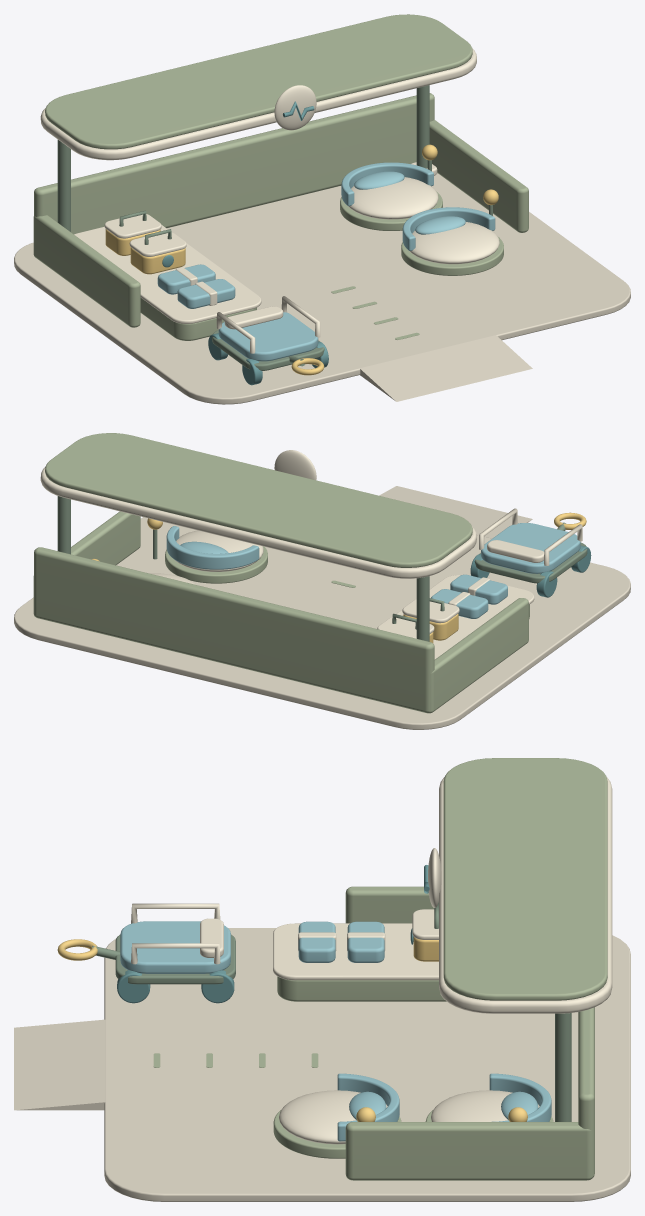
File: medical_station.glb
3 renders of one model, top to bottom at view 1: azimuth 30°, elevation 25°; view 2: azimuth 150°, elevation 25°; view 3: azimuth 270°, elevation 25°, orthographic. The views are drawn at different scales.
Parts seen in each view (by area): view 1: Foundation, Canopy_green_cap, Rear_wall, Broad_entry_ramp, Left_wall, Right_wall, Soft_canopy, Supply_top, Cart_soft_mattress, Bed_1_cushion, Bed_0_cushion, Bed_1_low_base (+16 smaller); view 2: Foundation, Rear_wall, Canopy_green_cap, Soft_canopy, Left_wall, Cart_soft_mattress, Right_wall, Broad_entry_ramp, Bed_1_support, Supply_top, Bed_1_low_base, Bed_1_cushion (+10 smaller); view 3: Foundation, Canopy_green_cap, Right_wall, Broad_entry_ramp, Supply_top, Soft_canopy, Cart_soft_mattress, Supply_counter, Bed_1_cushion, Left_wall, Rear_wall, Bed_0_cushion (+17 smaller).
Boxes of the visible parts, box(x1,y1,x2,y2) form: Foundation: box(14, 173, 630, 404); Canopy_green_cap: box(45, 14, 472, 149); Rear_wall: box(34, 93, 434, 234); Broad_entry_ramp: box(360, 335, 532, 401); Left_wall: box(33, 215, 140, 327); Right_wall: box(429, 120, 528, 232); Soft_canopy: box(40, 48, 476, 160); Supply_top: box(74, 225, 261, 323); Cart_soft_mattress: box(218, 312, 318, 361); Bed_1_cushion: box(409, 222, 499, 264); Bed_0_cushion: box(348, 177, 438, 219); Bed_1_low_base: box(401, 237, 503, 275); Foundation: box(14, 517, 630, 729); Rear_wall: box(34, 547, 434, 713); Canopy_green_cap: box(45, 433, 472, 567); Soft_canopy: box(40, 467, 476, 578); Left_wall: box(428, 598, 528, 713); Cart_soft_mattress: box(481, 523, 580, 573); Right_wall: box(33, 511, 140, 616); Broad_entry_ramp: box(379, 486, 532, 538); Bed_1_support: box(166, 526, 259, 569); Supply_top: box(376, 575, 534, 659); Bed_1_low_base: box(165, 546, 267, 583); Bed_1_cushion: box(174, 530, 263, 571); Foundation: box(104, 928, 630, 1201); Canopy_green_cap: box(443, 758, 607, 1000); Right_wall: box(345, 1122, 592, 1180); Broad_entry_ramp: box(14, 1019, 105, 1110); Supply_top: box(273, 923, 438, 980); Soft_canopy: box(439, 777, 612, 1013); Cart_soft_mattress: box(120, 921, 230, 973); Supply_counter: box(277, 976, 446, 1001); Bed_1_cushion: box(279, 1090, 387, 1144); Left_wall: box(345, 886, 438, 923); Rear_wall: box(578, 1007, 594, 1177); Bed_0_cushion: box(431, 1090, 539, 1121).
Bounding box in the file's own units: 8.4 × 3.2 × 8.2.
